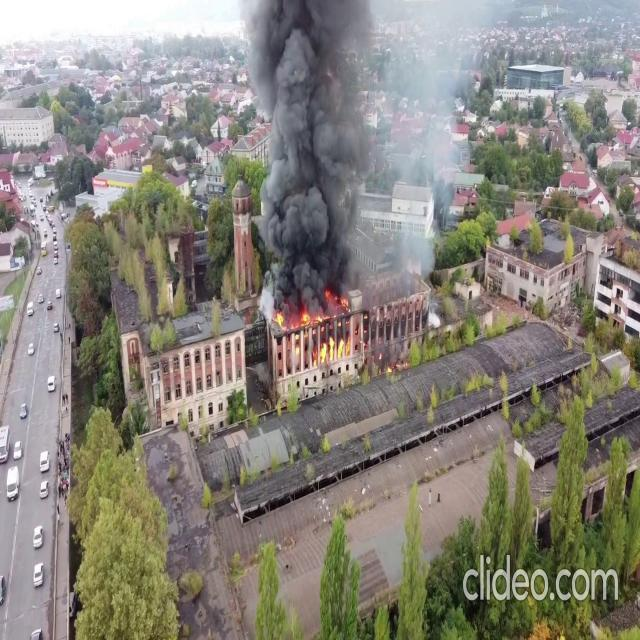Smoke: (248, 0, 426, 316)
